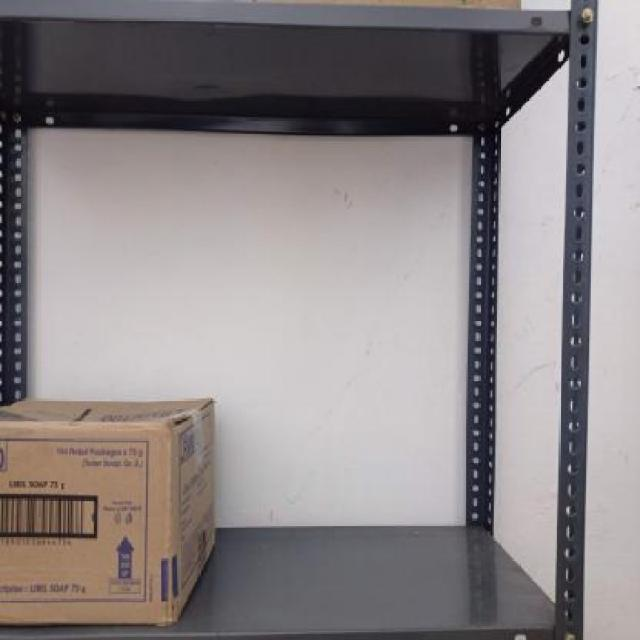box: (0, 427, 171, 624)
